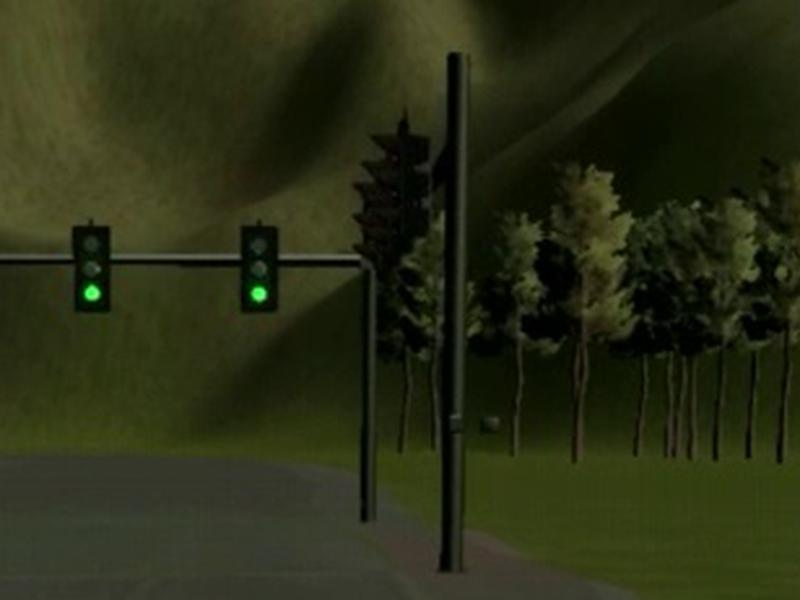Green: (72, 225, 110, 312), (241, 224, 278, 312)
